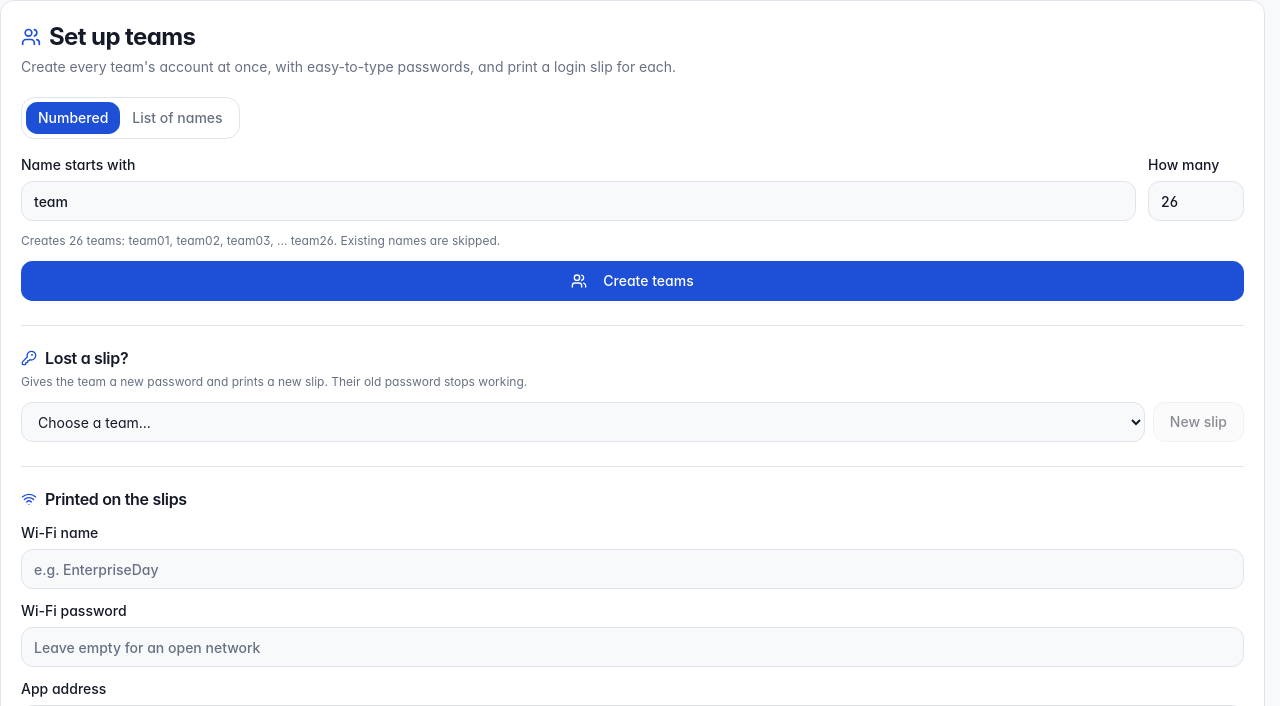
TeamSetupPanel › refuses more than 200 teams at once
Replace the text in the number field labelled "How many" with "500" at point(1196, 201), box [1148, 181, 1244, 221]
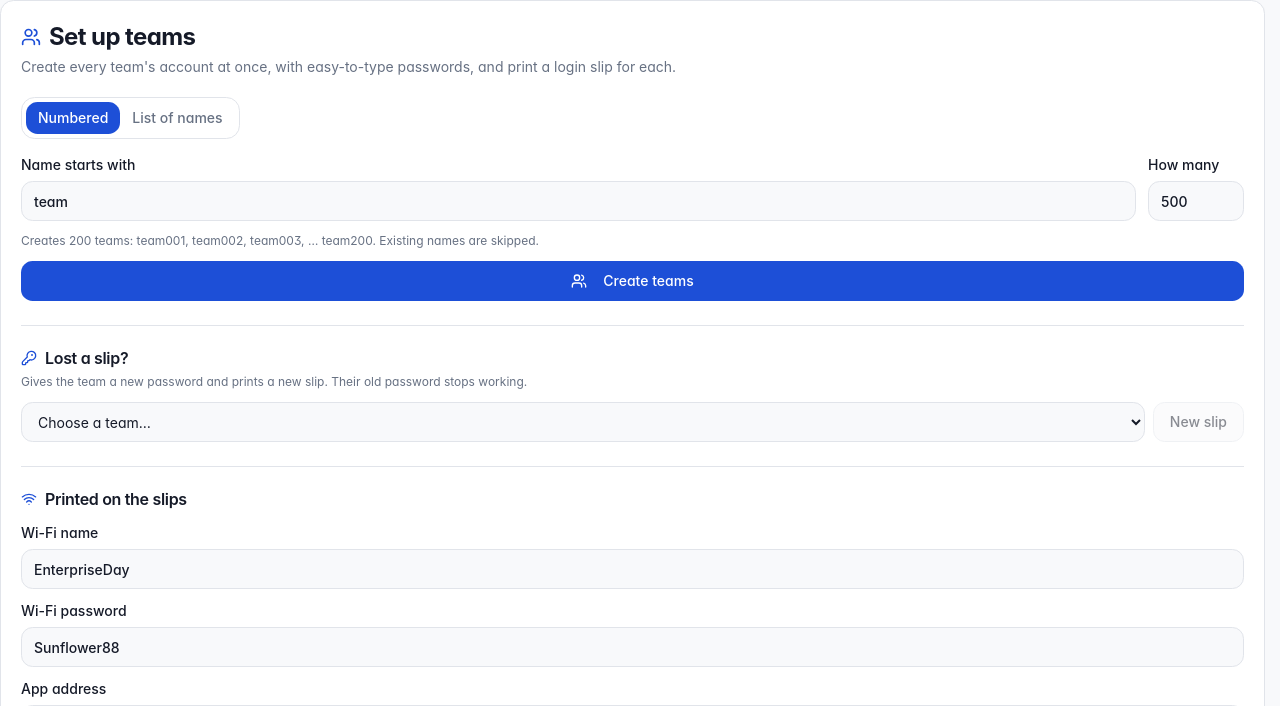
Expected: the text "Creates 200 teams" is shown, [21, 233, 539, 248]
